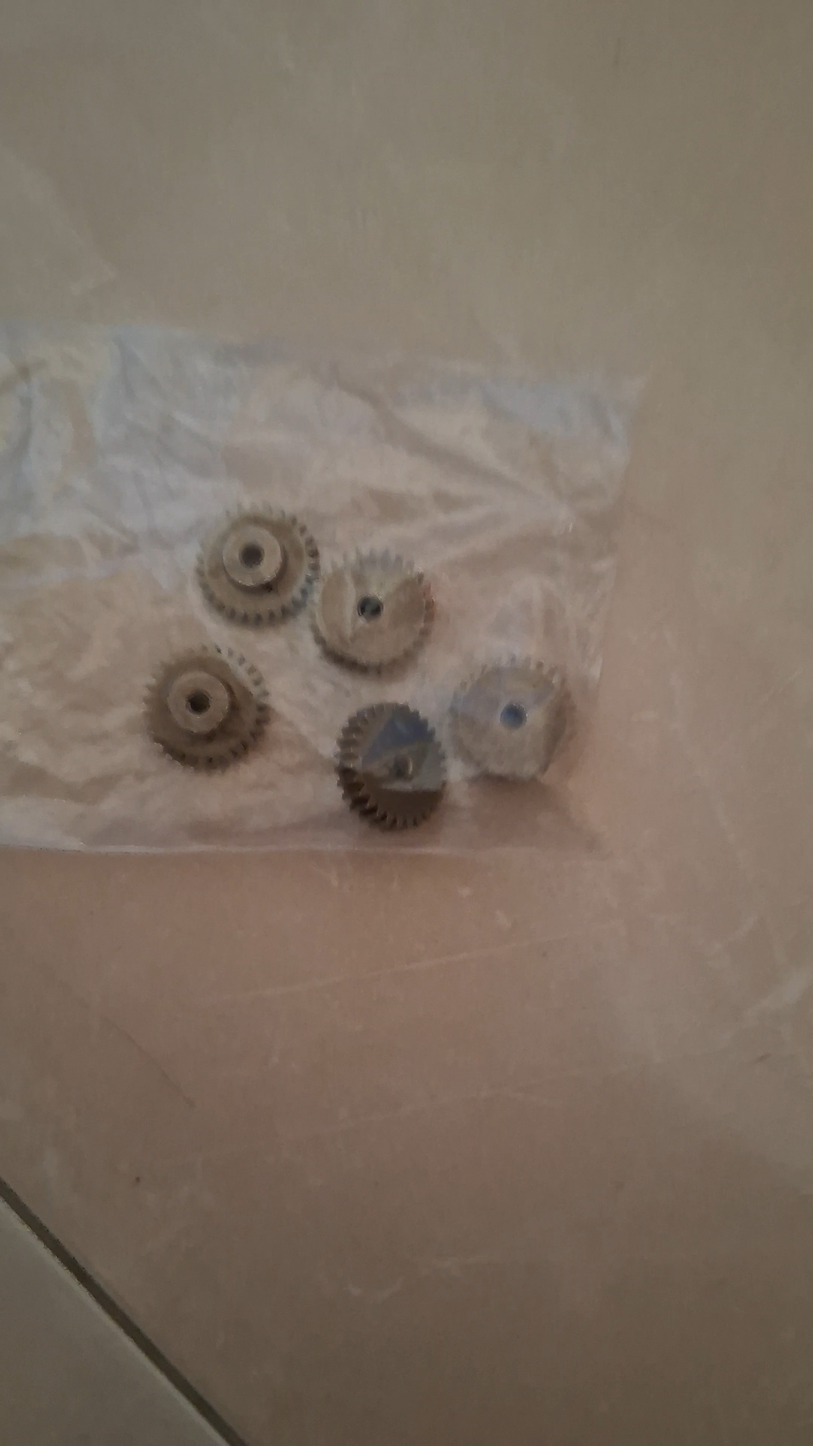spur gear: (145, 648, 268, 769), (451, 662, 571, 779), (314, 552, 433, 669), (197, 510, 319, 624), (337, 704, 445, 828)
